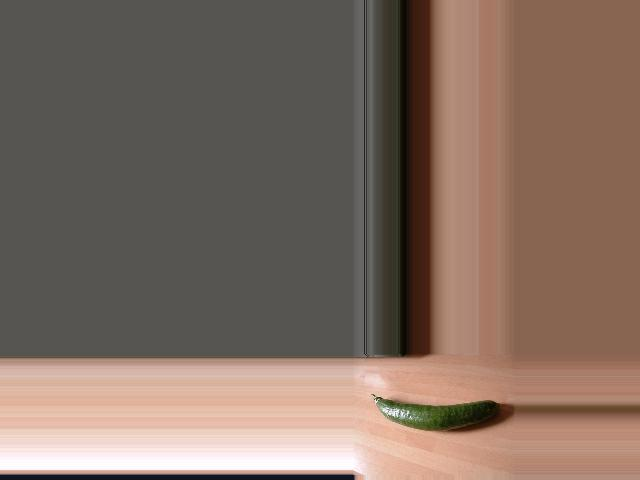cucumber: (370, 394, 501, 432)
